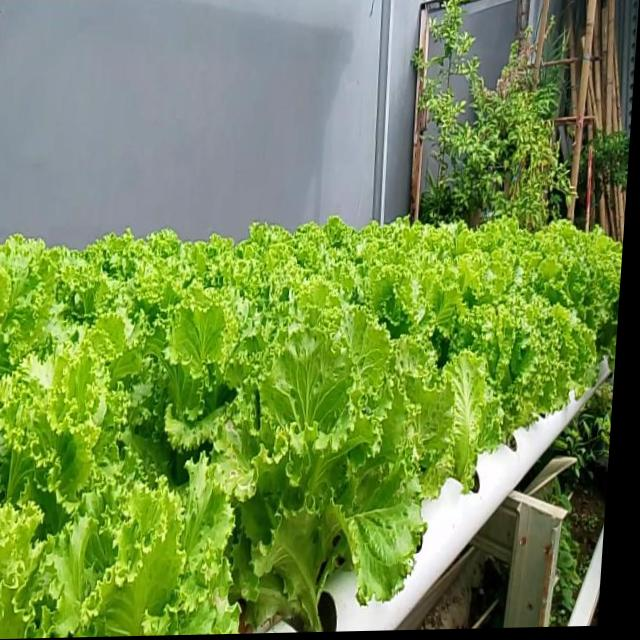Mature: (0, 199, 620, 638), (246, 317, 441, 612), (469, 243, 612, 457)
